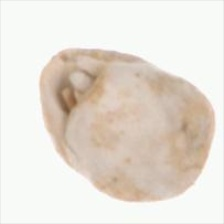L3: (42, 55, 105, 115)
L4: (39, 48, 215, 203)
